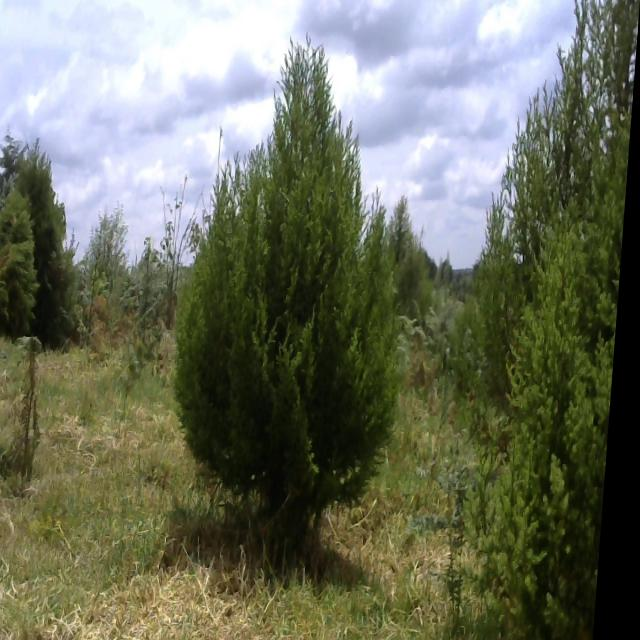cedrus: (172, 40, 436, 516), (456, 3, 640, 601)
